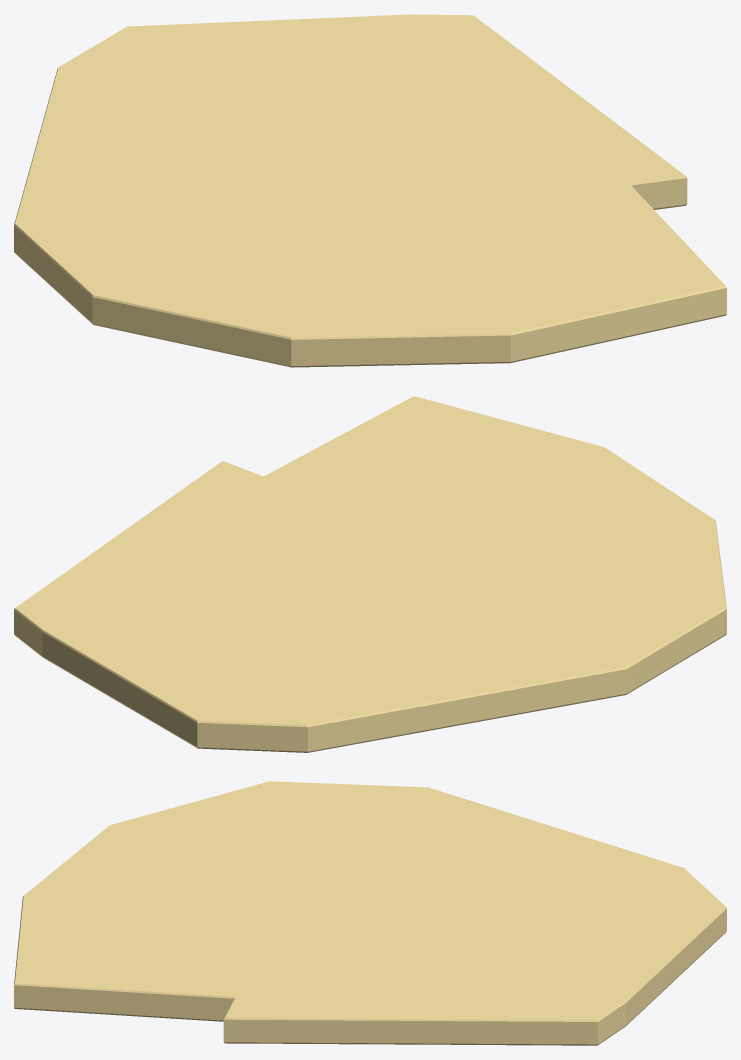
File: SWZ.glb
3 renders of one model, top to bottom at view 1: azimuth 30°, elevation 25°; view 2: azimuth 150°, elevation 25°; view 3: azimuth 270°, elevation 25°, orthographic. The views are drawn at different scales.
Bounding box in the file's own units: 1.37 × 0.068 × 1.72.
